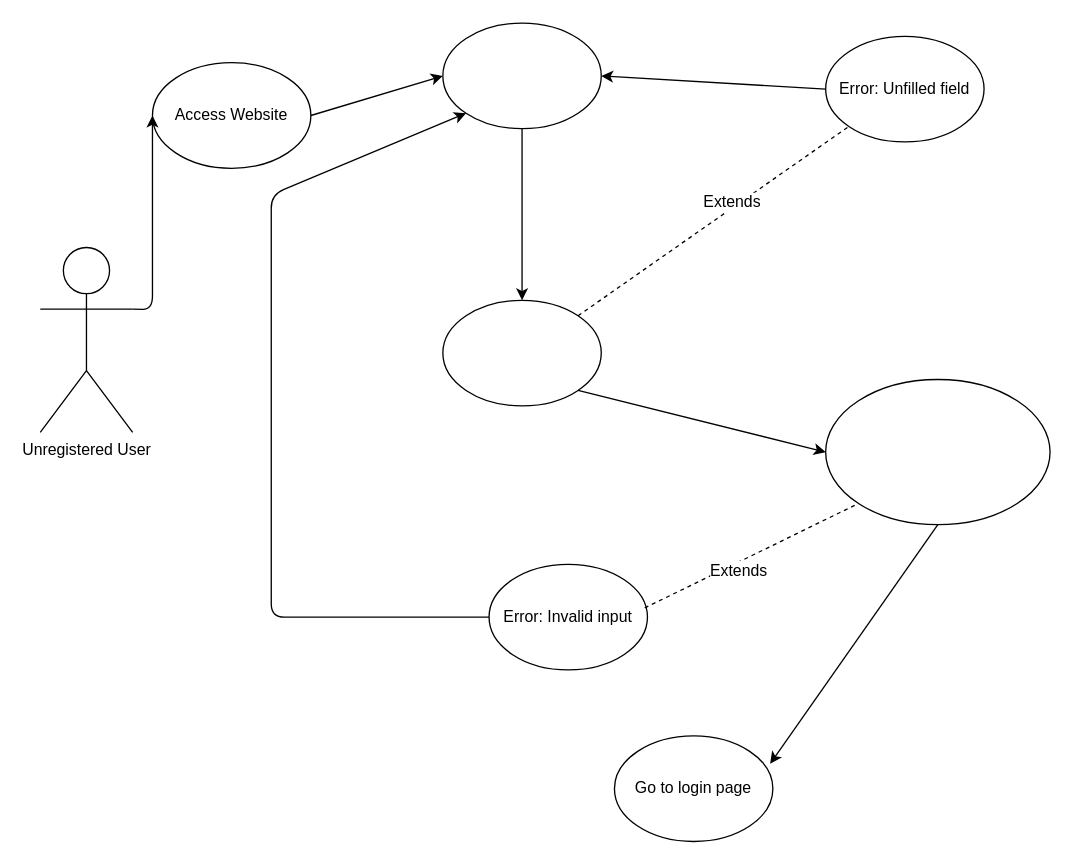
Image size: 1073x865. Some labels were removed from this diagram. The shapes that lost their labels are listed below. From the top down, each one's centre as x and y in pixels, then its label:
(x=521, y=75): Register Page
(x=521, y=352): Input register data into register form
(x=937, y=451): Check if all fields are filled in accordance to the specifications
